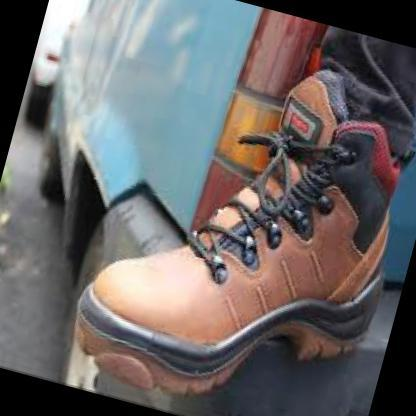safety-shoe: (11, 30, 415, 415)
